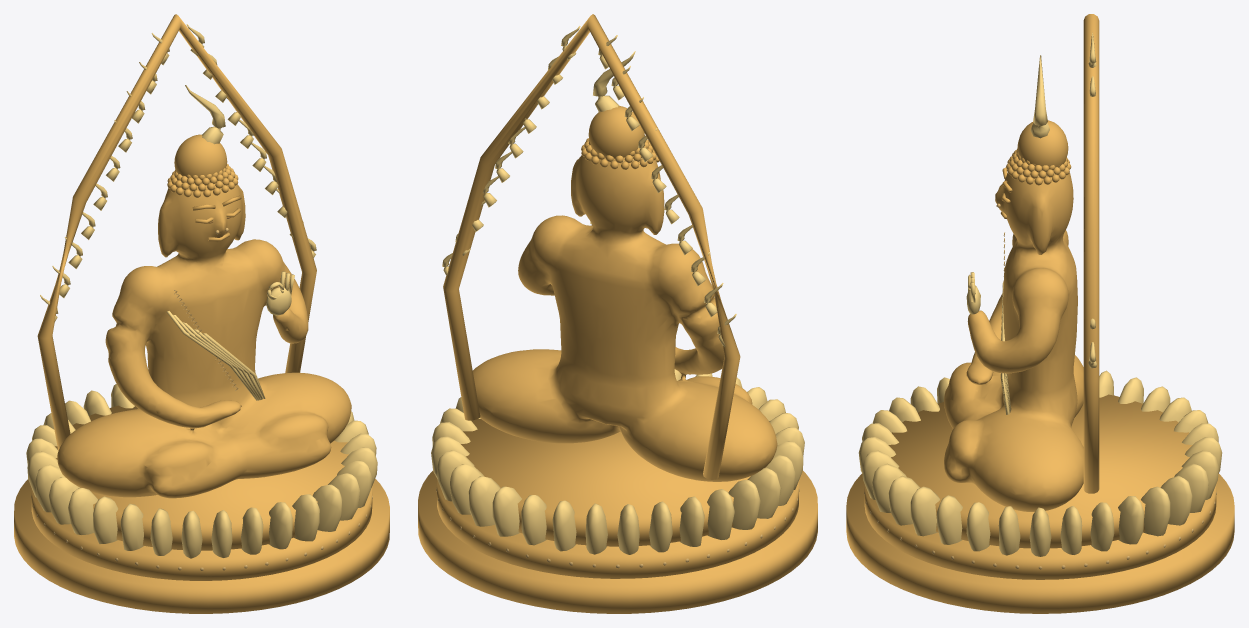
Rendered from buddha-teaching-refined.glb.
3 views of the same model, side by side, from view 1: azimuth 30°, elevation 25°; view 2: azimuth 150°, elevation 25°; view 3: azimuth 270°, elevation 25° (orthographic). The views are drawn at different scales.
Parts seen in each view (by area): view 1: buddha-teaching / Antique warm gold, buddha-teaching / Raised gold ornament; view 2: buddha-teaching / Antique warm gold, buddha-teaching / Raised gold ornament; view 3: buddha-teaching / Antique warm gold, buddha-teaching / Raised gold ornament.
Boxes of the visible parts, left/top/right/bottom form: buddha-teaching / Antique warm gold: left=14, top=14, right=389, bottom=613; buddha-teaching / Raised gold ornament: left=26, top=24, right=377, bottom=558; buddha-teaching / Antique warm gold: left=418, top=14, right=817, bottom=613; buddha-teaching / Raised gold ornament: left=431, top=26, right=804, bottom=554; buddha-teaching / Antique warm gold: left=846, top=14, right=1234, bottom=613; buddha-teaching / Raised gold ornament: left=858, top=32, right=1222, bottom=556.
Size of the model in its own units: 3.2 by 4.71 by 3.2.
